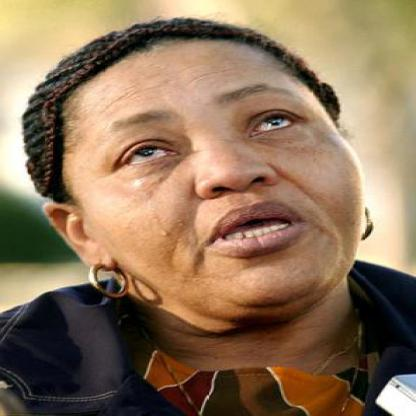face: (63, 21, 358, 321)
